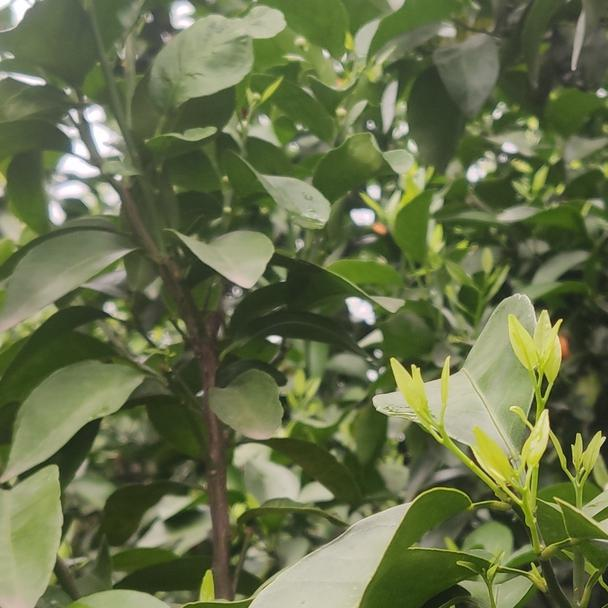shoot: (476, 424, 556, 538), (503, 317, 573, 420), (397, 359, 462, 440), (552, 431, 607, 504)
